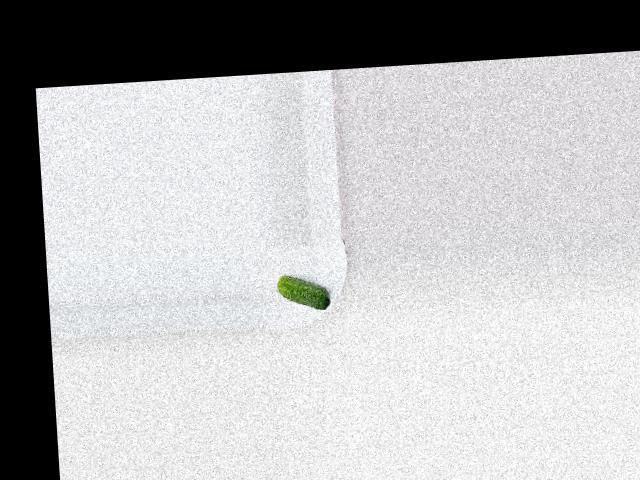cucumber: (276, 272, 329, 312)
